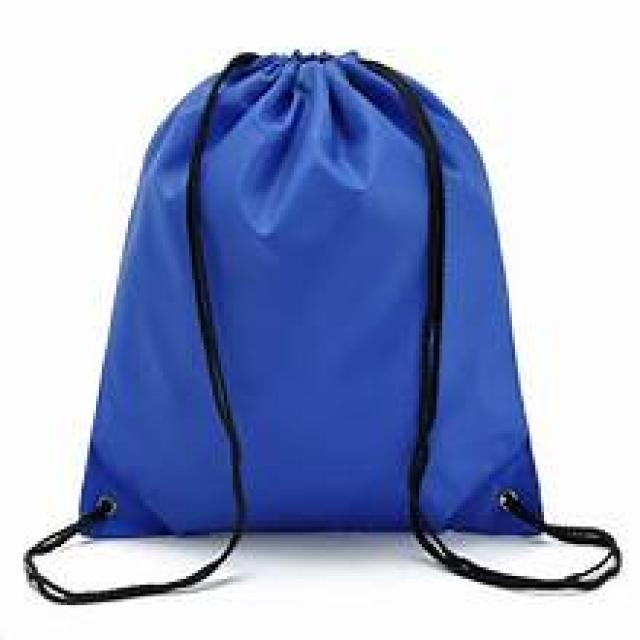backpack: (24, 48, 621, 606)
